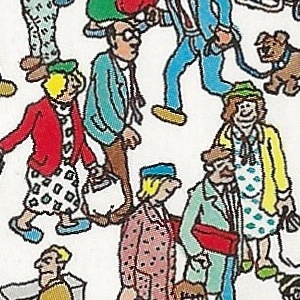Wenda: (140, 116, 160, 184)
